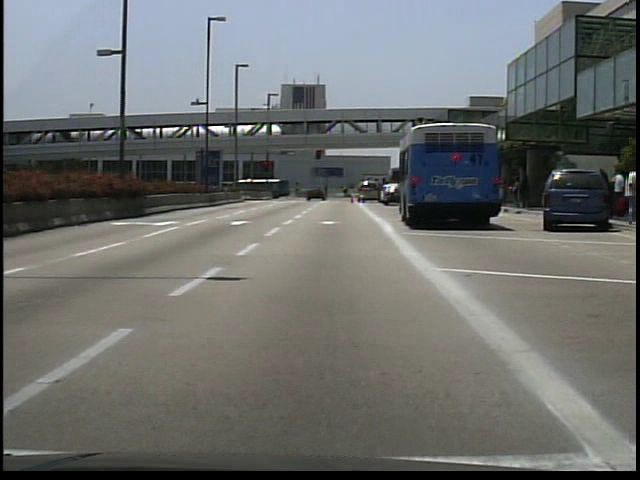person: (623, 163, 639, 222), (519, 173, 532, 209), (611, 168, 626, 192), (341, 184, 353, 199), (324, 185, 334, 200)
